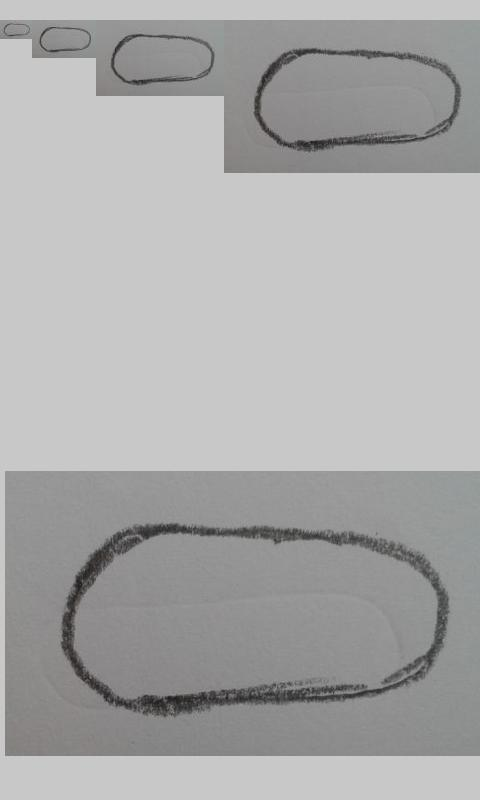chip: (60, 521, 451, 718), (254, 48, 463, 153), (111, 33, 215, 86), (39, 26, 91, 53), (3, 22, 31, 37)
